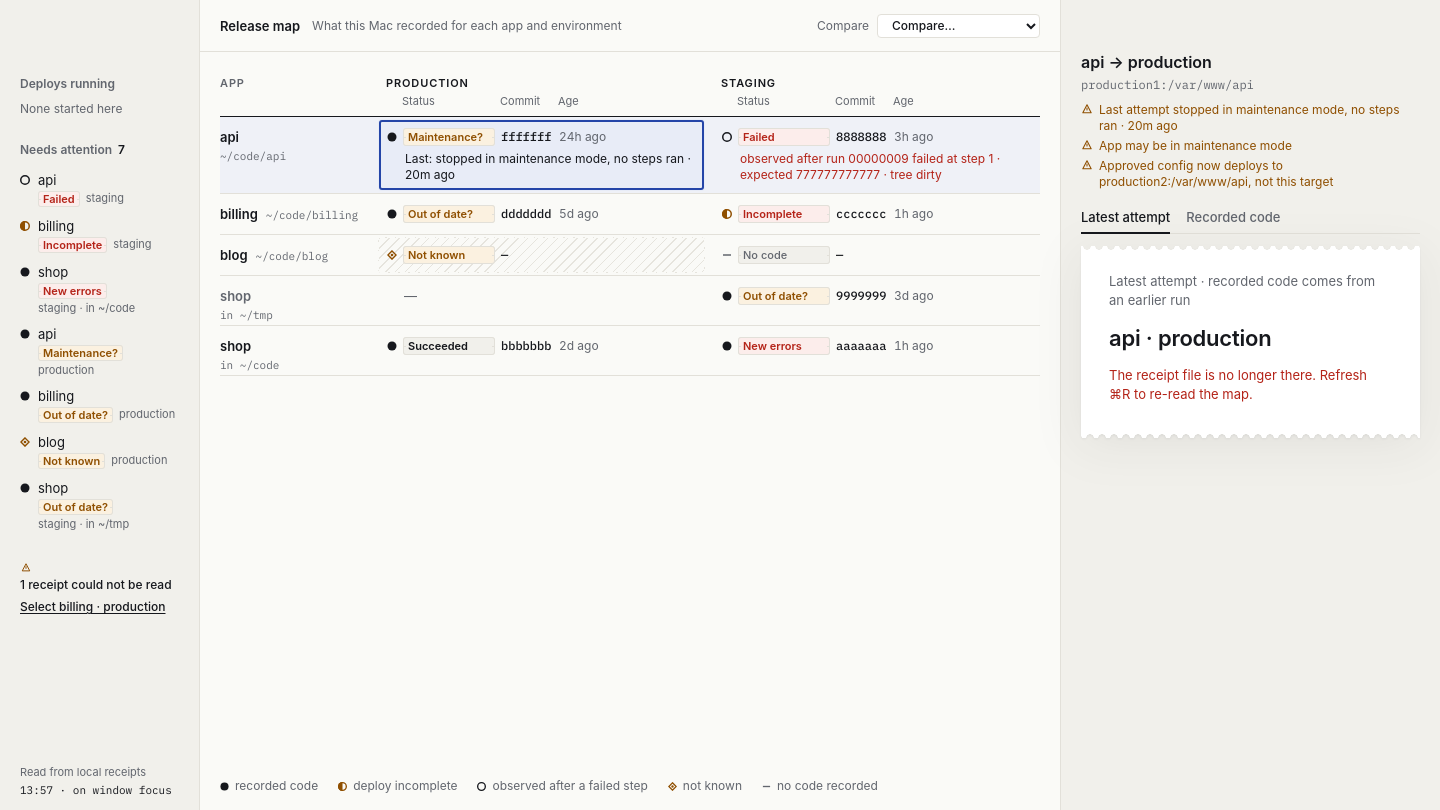
it: clear removes the lines and forgets the pair
Select "staging → production" in the dropdown labelled "Compare" at [958, 26], box top-left (878, 14), bottom-right (1039, 36)
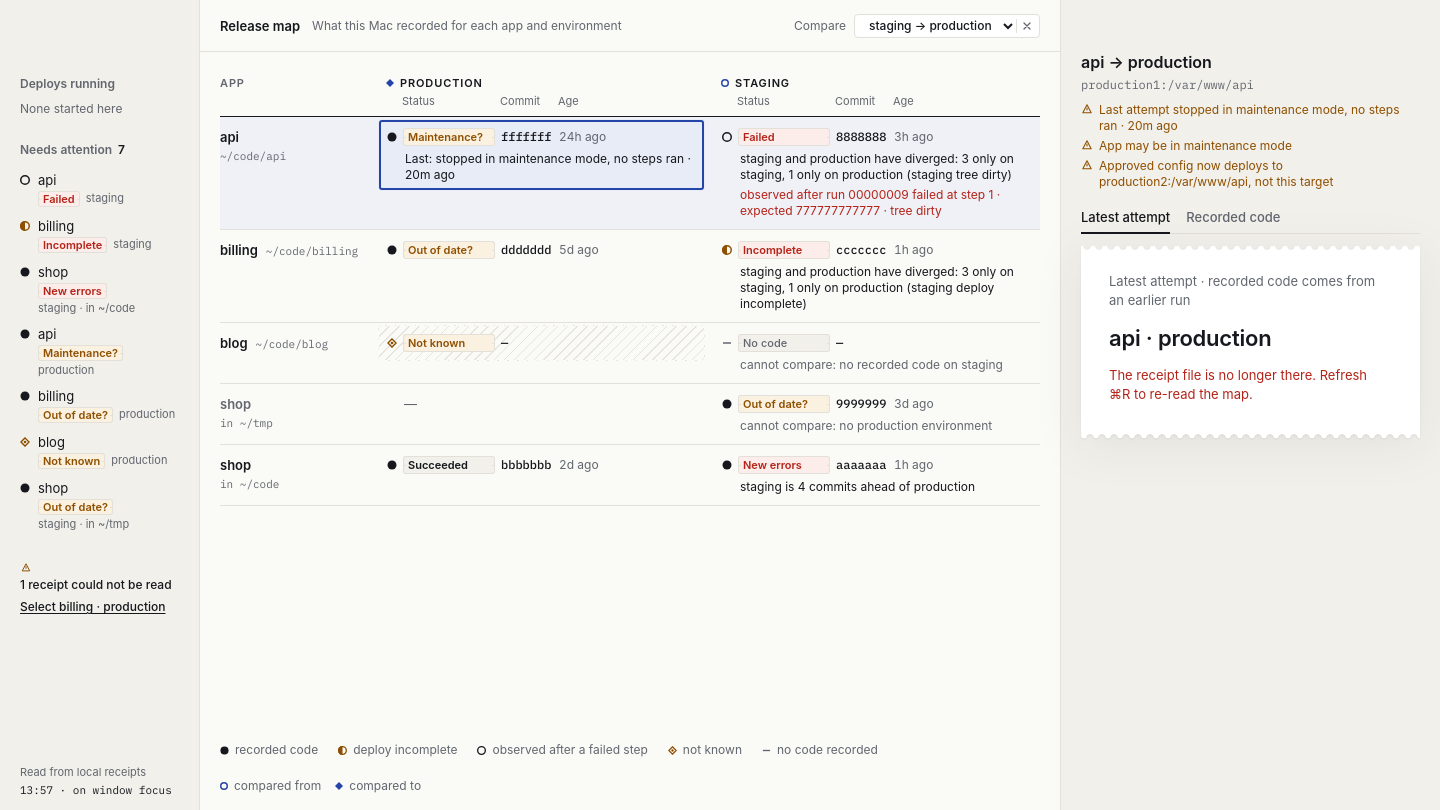
Result: the 1st text with class "cell-compare" is shown at top-left (722, 151), bottom-right (1031, 183)
Click the button named "Clear comparison" at [1028, 26], box top-left (1016, 18), bottom-right (1039, 32)
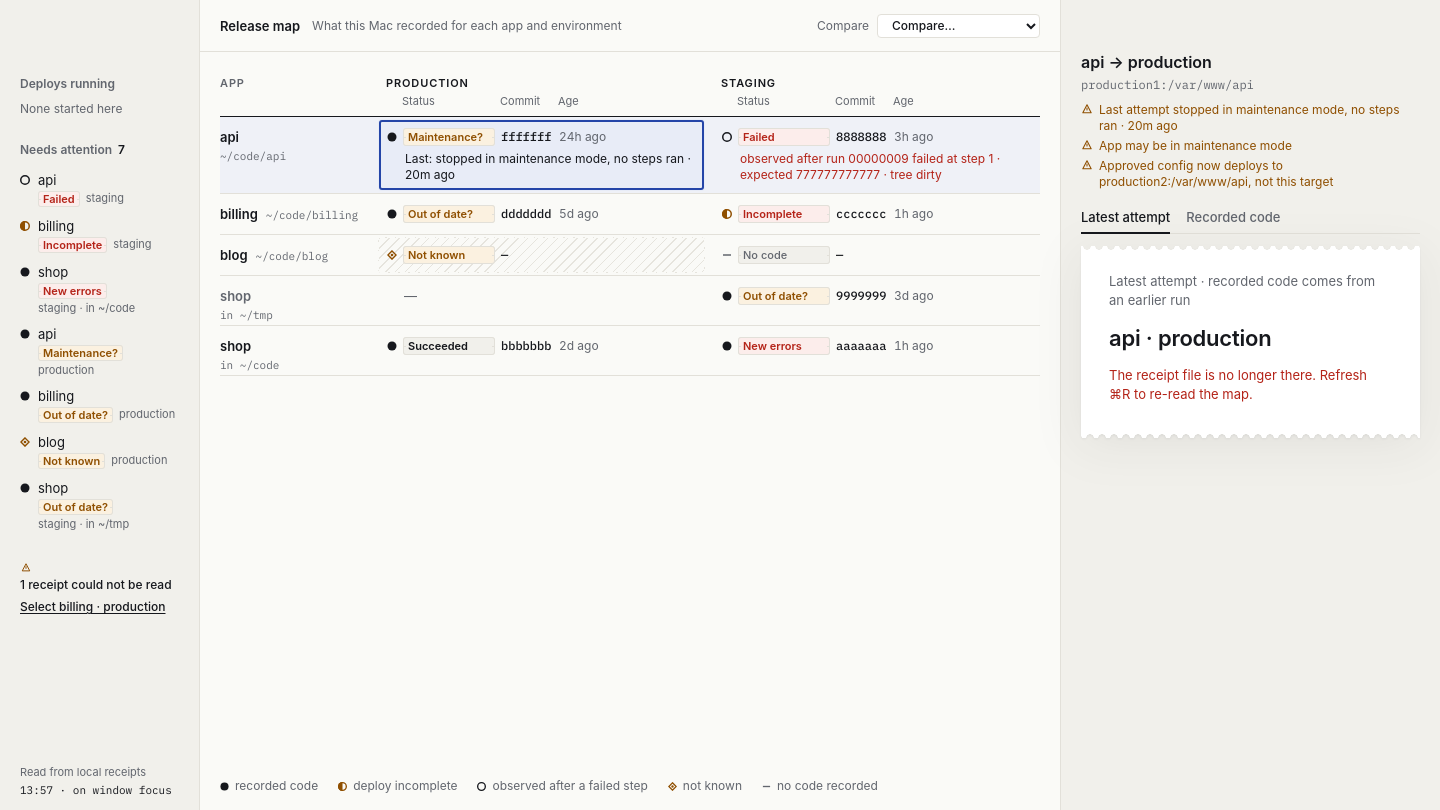
Result: the text with class "cell-compare" is gone
